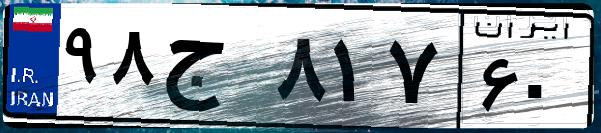0: (525, 38, 570, 115)
1: (330, 28, 385, 110)
6: (475, 38, 525, 113)
7: (385, 28, 445, 110)
8: (270, 28, 330, 110), (110, 28, 158, 98)
9: (57, 26, 110, 100)
ج: (158, 20, 270, 120)
